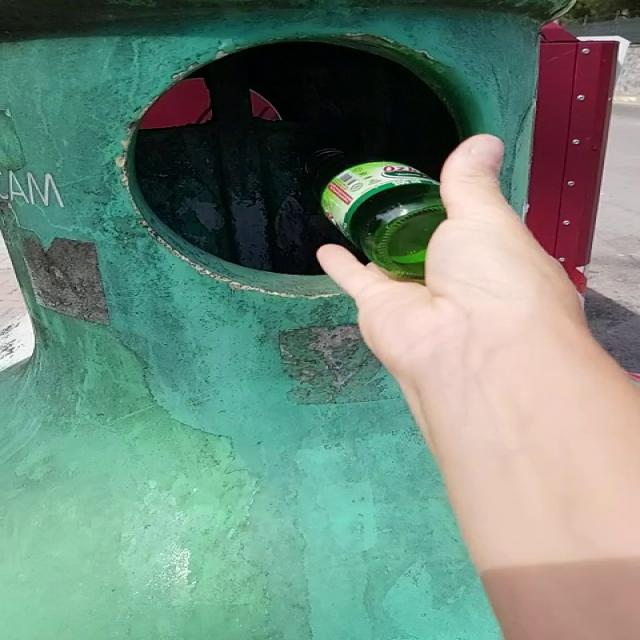glass: (308, 148, 447, 279)
